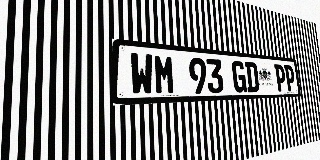3: (206, 58, 224, 93)
9: (189, 57, 208, 94)
D: (245, 62, 259, 92)
G: (231, 60, 247, 93)
M: (153, 54, 176, 95)
P: (274, 64, 287, 92), (284, 65, 296, 91)
W: (130, 52, 154, 95)
